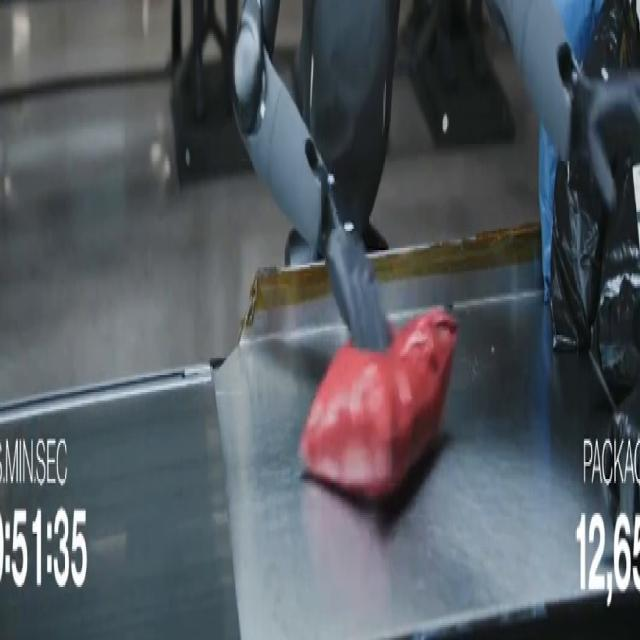package: (300, 310, 456, 500), (593, 138, 639, 404), (550, 159, 609, 351), (594, 153, 639, 404), (598, 386, 639, 534), (539, 126, 558, 300)
